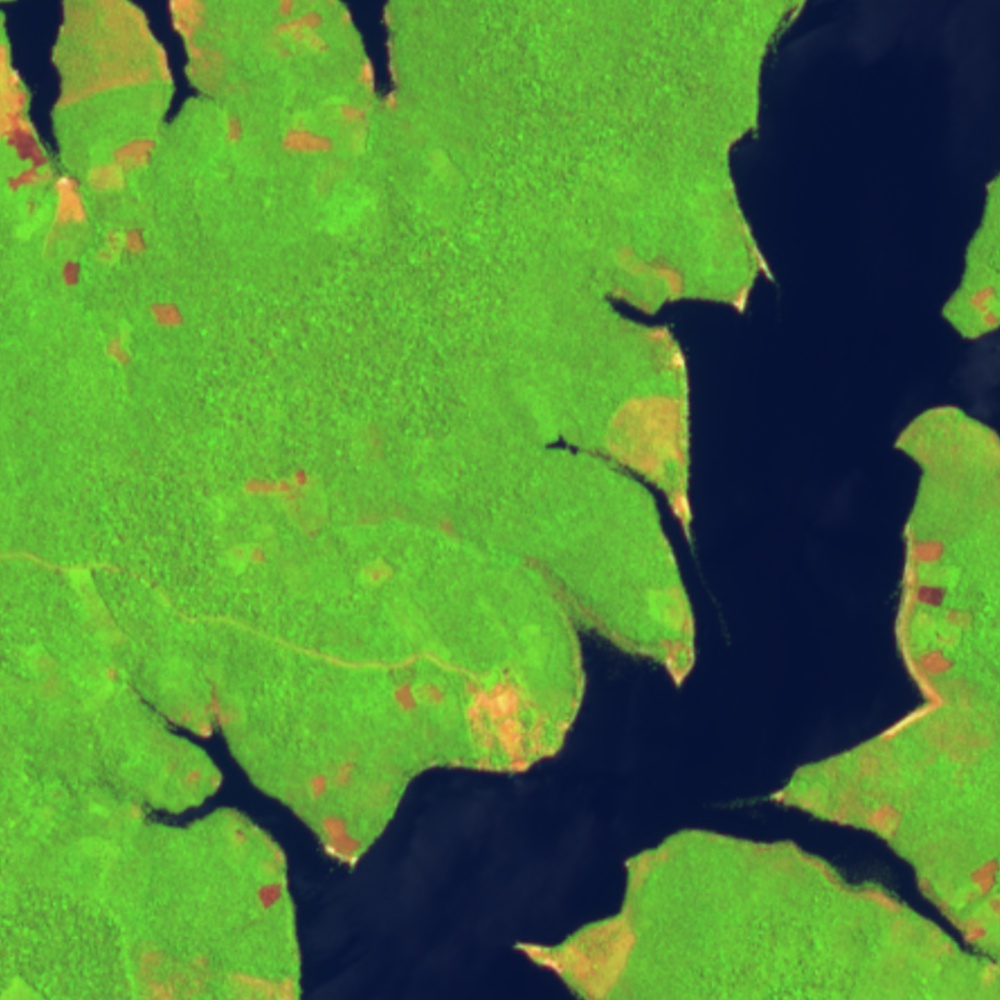legal: (1, 1, 97, 226), (1, 1, 233, 93), (604, 395, 694, 549), (890, 528, 953, 740), (453, 681, 587, 778), (513, 915, 638, 1000), (919, 855, 1000, 949), (331, 1, 402, 106), (790, 848, 902, 914), (727, 197, 778, 324), (641, 585, 698, 690), (91, 130, 164, 192), (615, 247, 691, 296), (274, 1, 335, 57), (189, 679, 241, 740), (317, 814, 363, 865), (233, 967, 300, 1000), (99, 223, 154, 261), (635, 844, 671, 900), (648, 320, 689, 369), (388, 678, 448, 710), (860, 797, 900, 843), (309, 763, 358, 798), (147, 295, 194, 330), (246, 470, 308, 493), (285, 126, 343, 150), (971, 283, 1000, 330), (341, 102, 367, 151), (255, 881, 285, 908), (362, 556, 397, 579), (60, 258, 85, 287), (107, 340, 133, 366), (224, 116, 248, 143), (107, 668, 131, 690), (767, 789, 797, 804)
